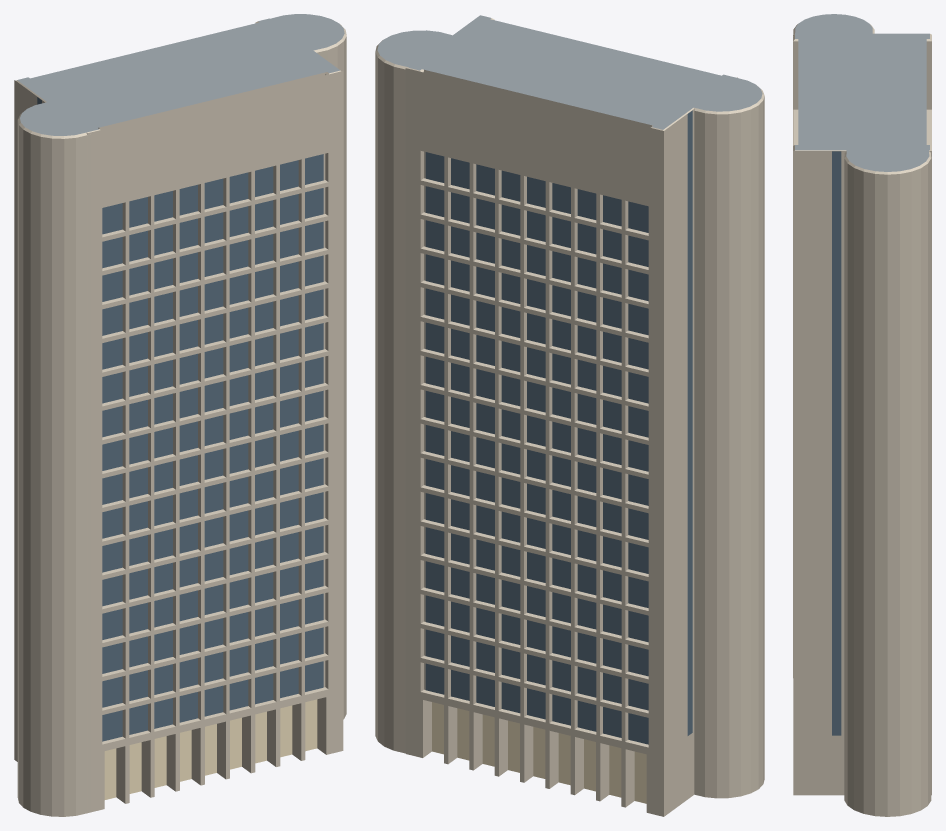
File: bos-christian-science-center.glb
3 renders of one model, left to right at view 1: azimuth 30°, elevation 25°; view 2: azimuth 150°, elevation 25°; view 3: azimuth 270°, elevation 25°, orthographic. The views are drawn at different scales.
Parts seen in each view (by area): view 1: Christian Science Center Administration Building; view 2: Christian Science Center Administration Building; view 3: Christian Science Center Administration Building.
Part boxes in pixels (bbox=[...]): Christian Science Center Administration Building: bbox=[14, 14, 346, 816]; Christian Science Center Administration Building: bbox=[375, 15, 764, 816]; Christian Science Center Administration Building: bbox=[793, 14, 931, 816].
Bounding box in the file's own units: 57.5 × 108 × 21.11.
